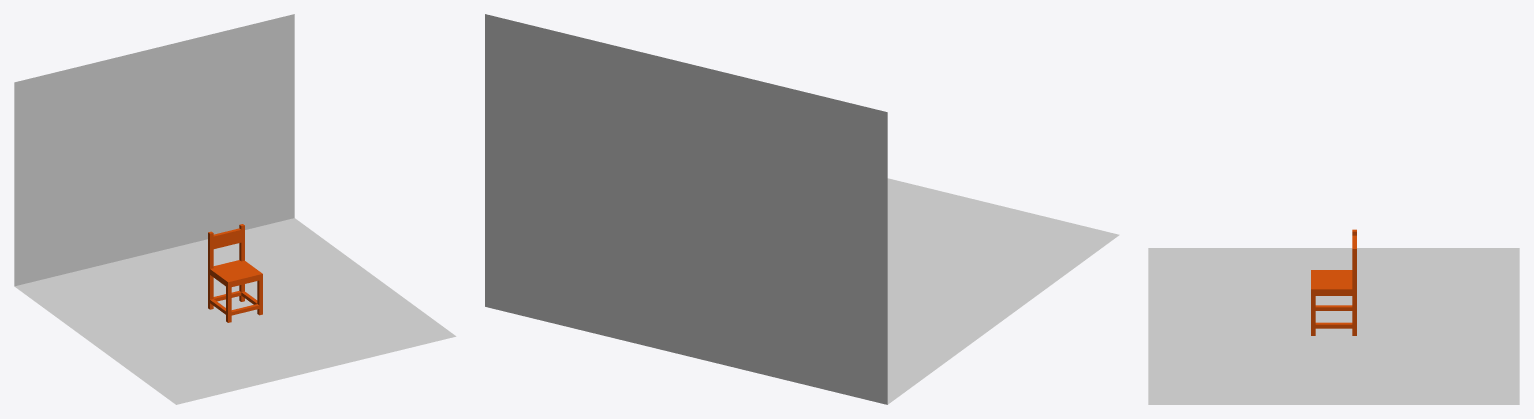
The model's file is uploads_files_4595841_chair.fbx.
The picture shows the model from 3 angles, left to right: view 1: azimuth 30°, elevation 25°; view 2: azimuth 150°, elevation 25°; view 3: azimuth 270°, elevation 25°; orthographic projection. The views are drawn at different scales.
Visible parts, largest first — view 1: Plane, Cube; view 2: Plane; view 3: Plane, Cube.
Boxes of the visible parts, bbox=[...] form: Plane: bbox=[14, 14, 456, 404]; Cube: bbox=[208, 224, 262, 322]; Plane: bbox=[485, 14, 1119, 404]; Plane: bbox=[1148, 248, 1519, 404]; Cube: bbox=[1311, 229, 1356, 335].
Bounding box in the file's own units: 2018 × 1402 × 2018.
